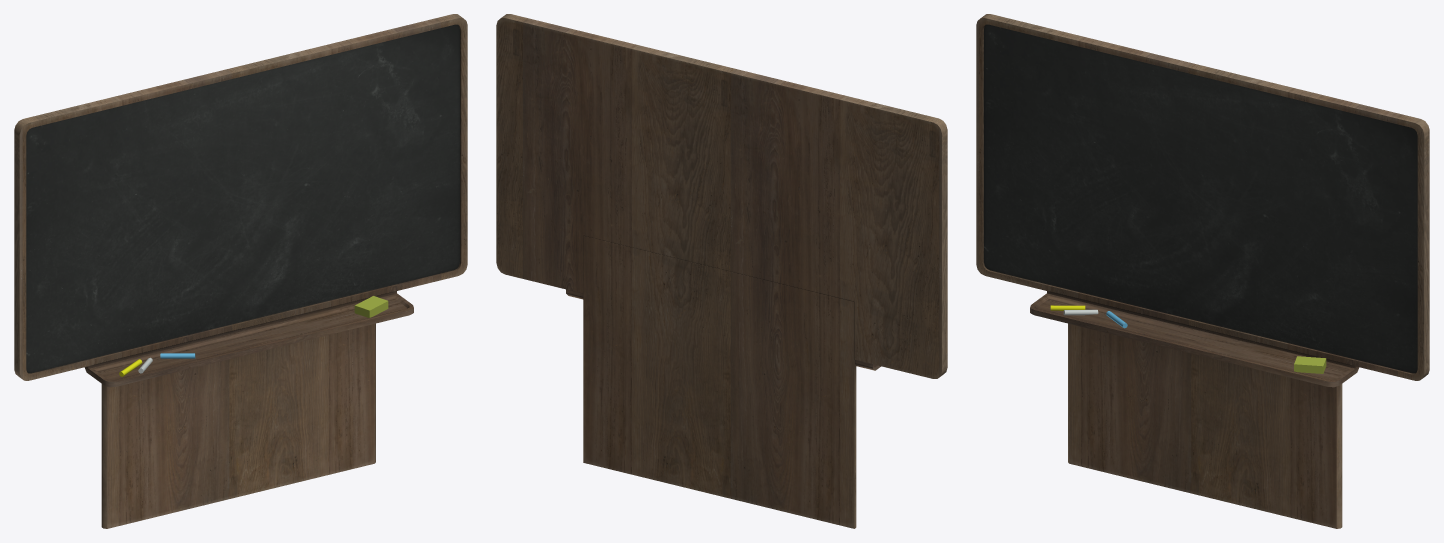
Rendered from ChalkBoard.gltf.
The picture shows the model from 3 angles, left to right: view 1: azimuth 30°, elevation 25°; view 2: azimuth 150°, elevation 25°; view 3: azimuth 330°, elevation 25°; orthographic projection.
Visible parts, largest first — view 1: Board, Sponge; view 2: Board; view 3: Board.
Part boxes in pixels (left/top/right/bottom): Board: left=14, top=14, right=467, bottom=528; Sponge: left=354, top=296, right=388, bottom=317; Board: left=496, top=14, right=947, bottom=528; Board: left=976, top=14, right=1429, bottom=528.
Bounding box in the file's own units: 2 × 1.82 × 0.1937.
Materials: 3 (3 with a texture image).
